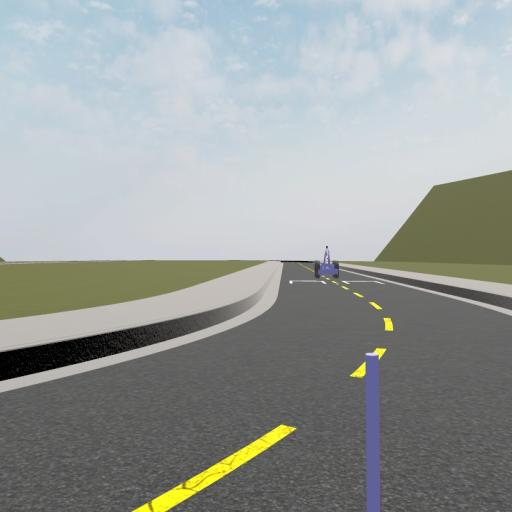ERP-42: (313, 244, 341, 280)
